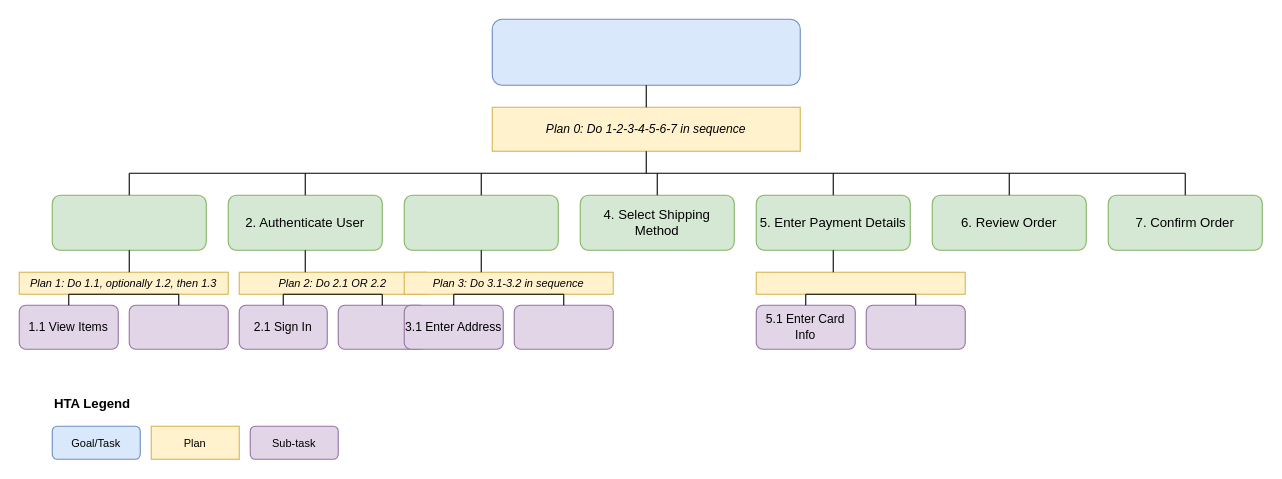
Image size: 1282x479. Some labels were removed from this diagram. The shapes that lost their labels are listed below. From the top down, each one's centre as x and y in pixels, then its label:
At pixel 645 51: "0. Complete Checkout Process".
At pixel 128 222: "1. Review Cart".
At pixel 480 222: "3. Enter Shipping Info".
At pixel 860 282: "Plan 5: Do 5.1-5.2 in sequence".
At pixel 178 326: "1.2 Update Quantity".
At pixel 381 326: "2.2 Guest Checkout".
At pixel 563 326: "3.2 Validate Address".
At pixel 915 326: "5.2 Enter Billing".
